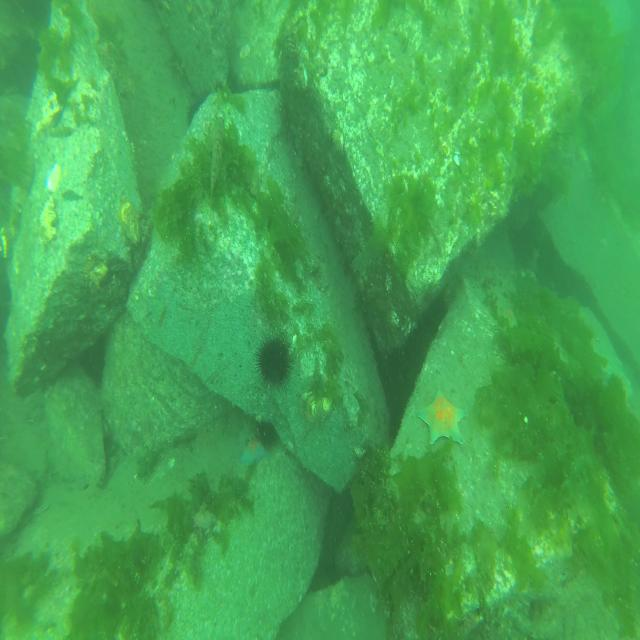echinus: (252, 331, 295, 397), (11, 34, 42, 98), (255, 420, 279, 455), (185, 97, 204, 128)
holothurian: (236, 419, 263, 445), (194, 501, 217, 530)
starfish: (416, 386, 468, 447), (237, 437, 270, 467)
